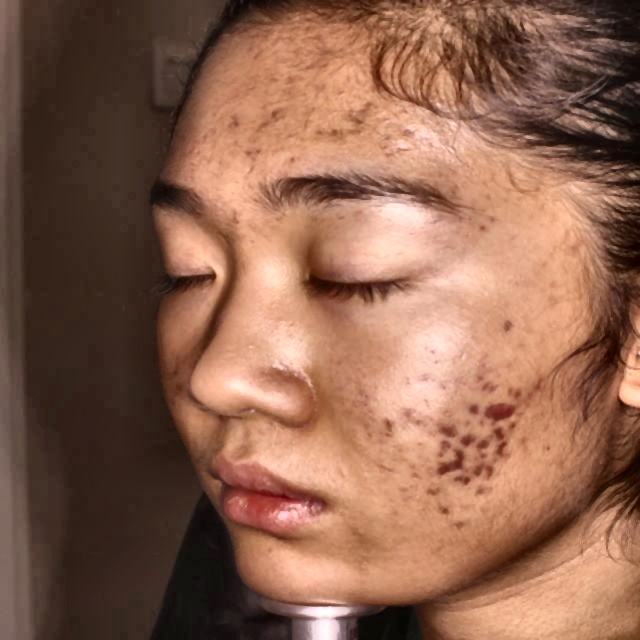pustule: (481, 395, 524, 421), (492, 421, 516, 463), (440, 446, 470, 475), (440, 416, 465, 444), (476, 463, 500, 488), (458, 400, 480, 424), (474, 432, 488, 457)
